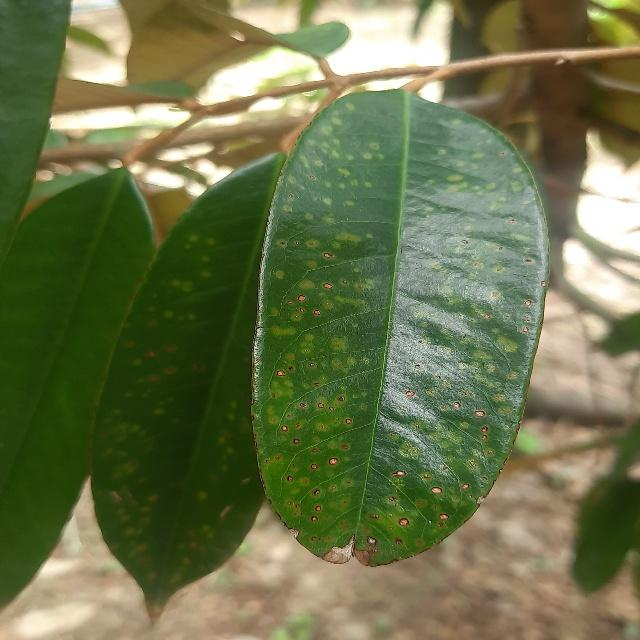Leaf Spot: (249, 83, 555, 573), (91, 157, 287, 640)
